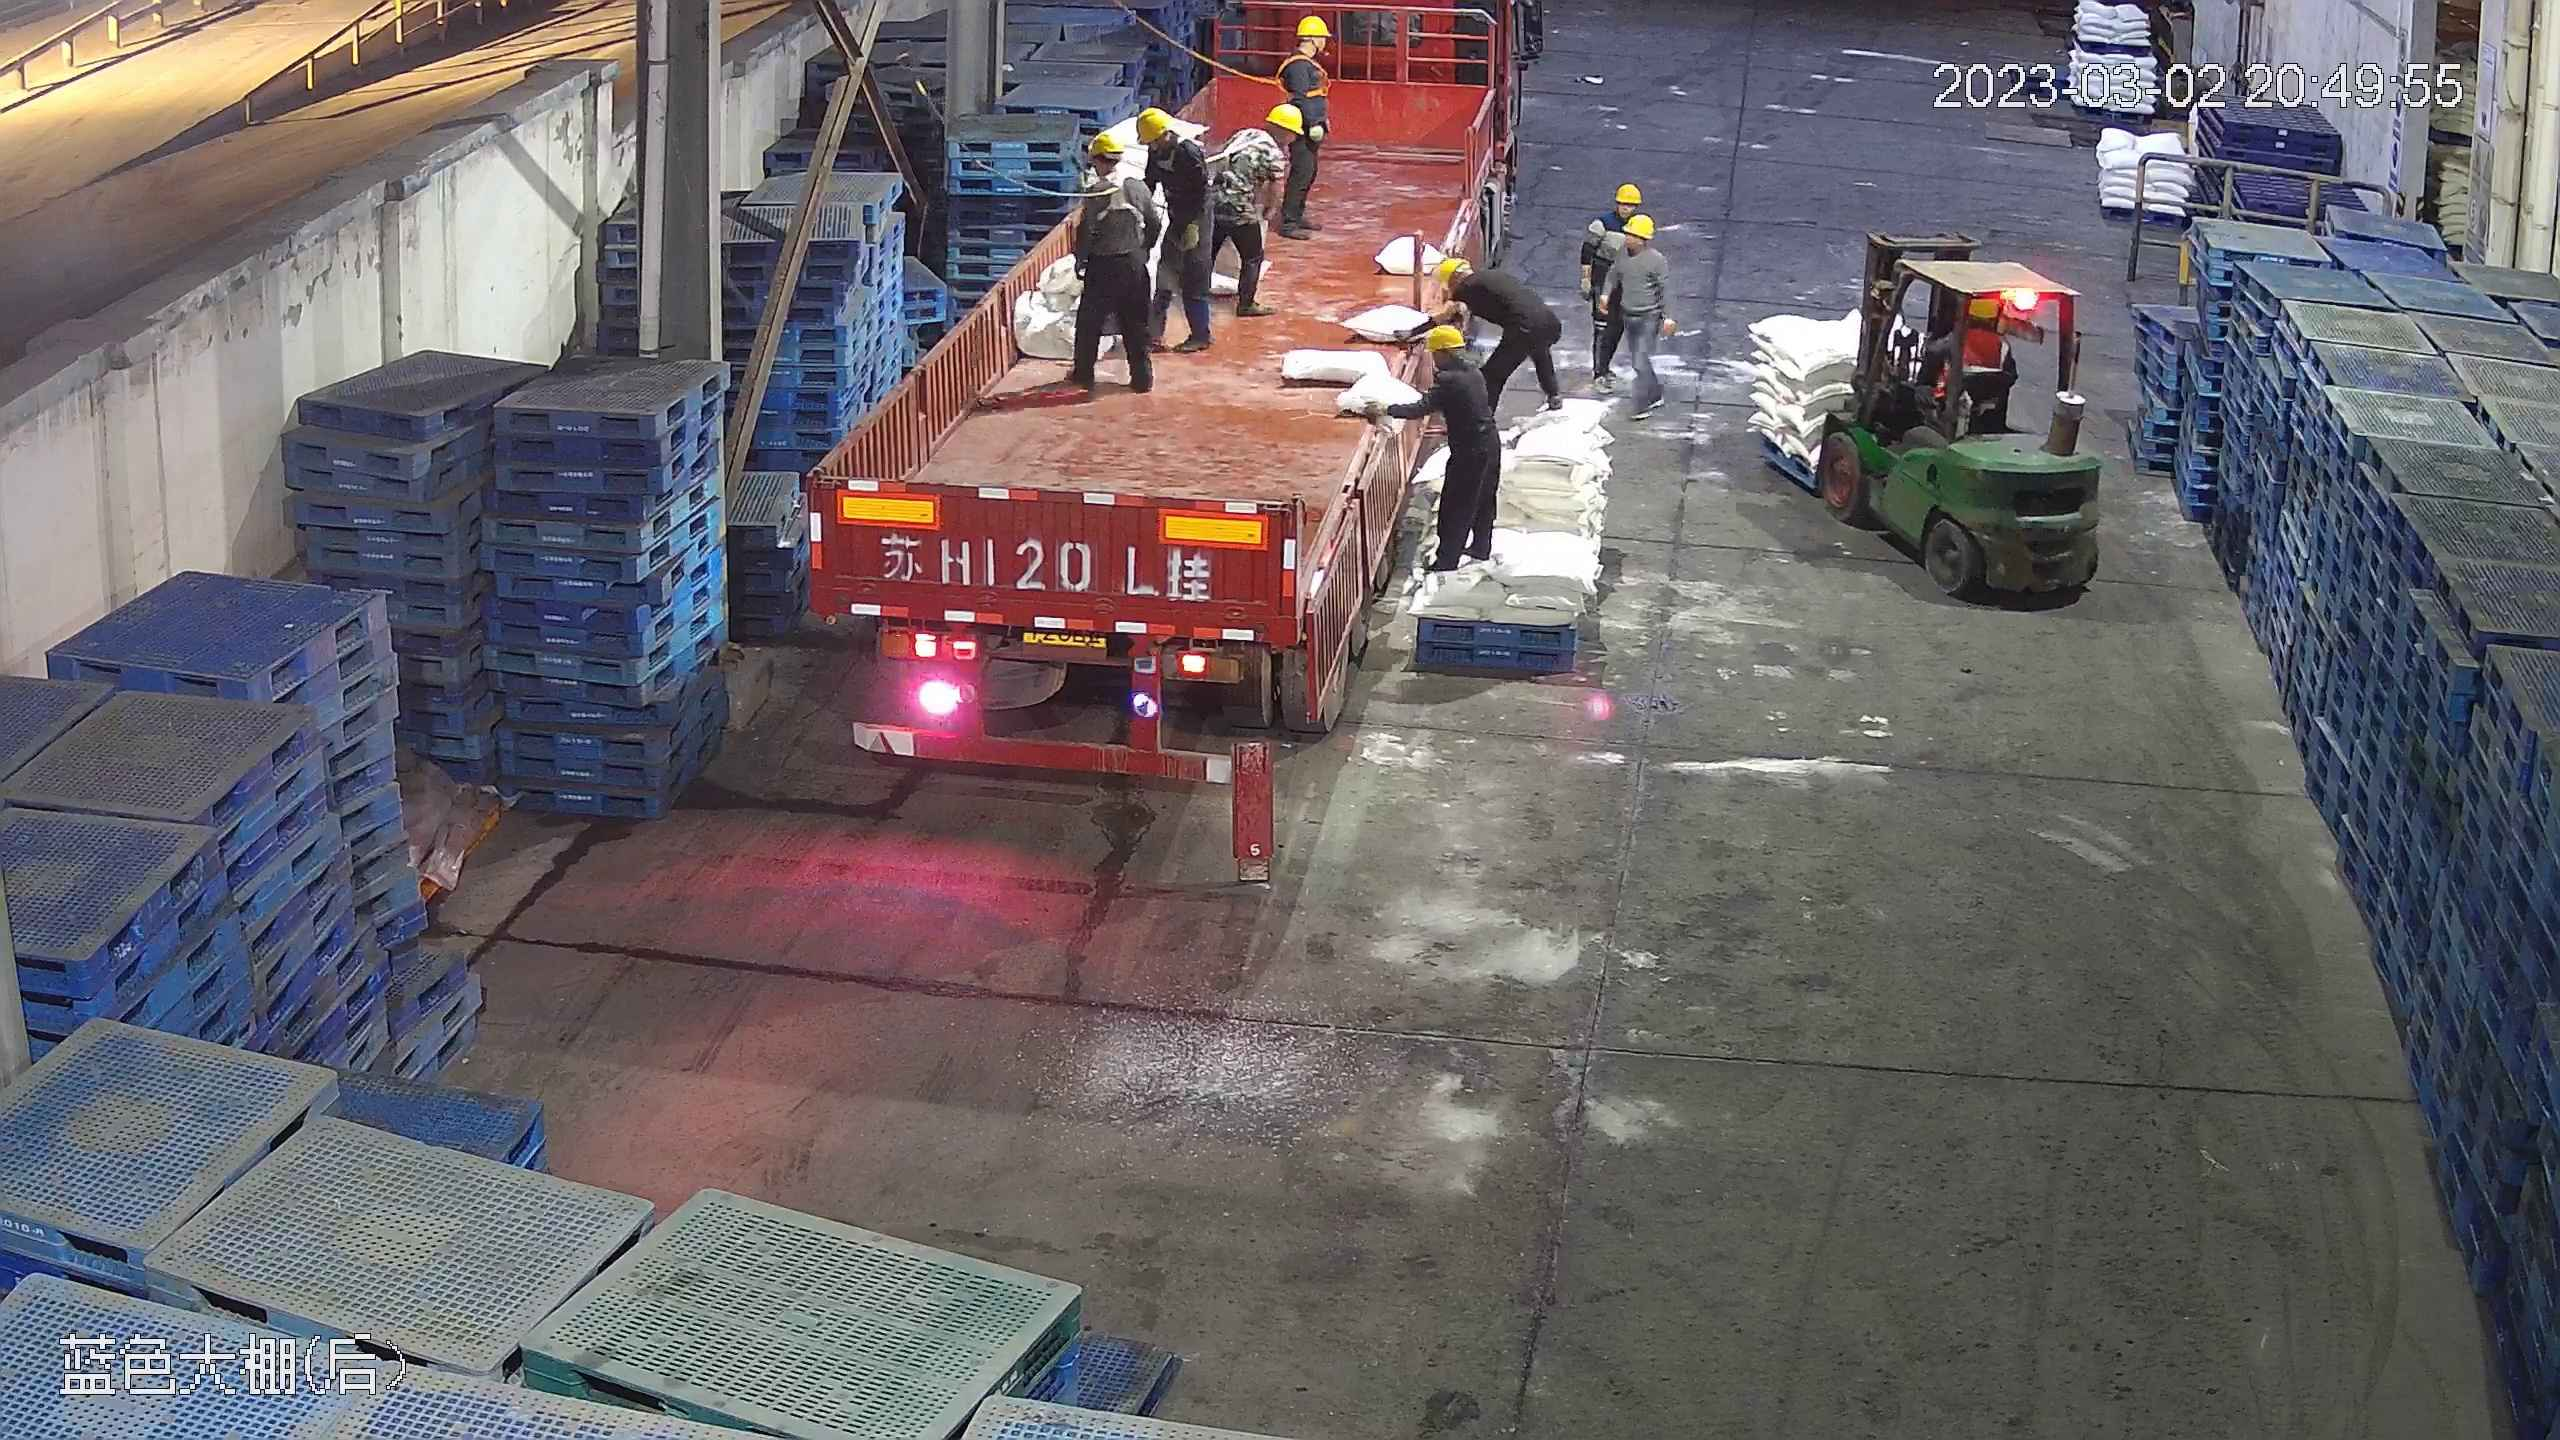belt: (1215, 137, 1273, 198), (1084, 165, 1139, 226), (1274, 49, 1334, 102), (1157, 133, 1190, 170)
head: (1416, 321, 1493, 411), (1073, 126, 1146, 213), (1136, 105, 1212, 177), (1228, 103, 1307, 172), (1954, 293, 2015, 371), (1275, 14, 1335, 89), (1439, 258, 1509, 319), (1607, 213, 1666, 283)
helmet: (1267, 96, 1309, 143), (1422, 316, 1465, 353), (1135, 106, 1174, 142), (1088, 125, 1125, 153), (1621, 213, 1658, 241), (1294, 13, 1329, 40), (1966, 293, 2001, 320), (1437, 259, 1470, 285), (1614, 184, 1646, 210)
people: (1058, 126, 1161, 396), (1408, 325, 1501, 583), (1443, 255, 1567, 426), (1140, 95, 1217, 353), (1198, 98, 1279, 339), (1262, 8, 1338, 237), (1596, 209, 1675, 401)
truck: (798, 61, 1517, 787)
